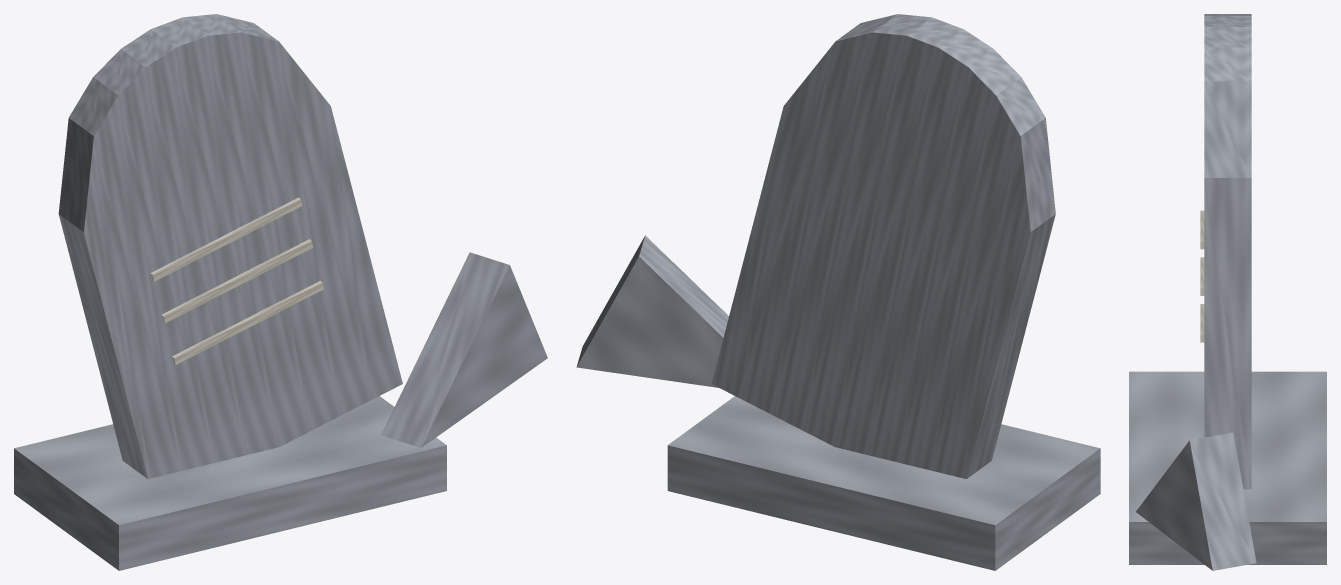
3 views of the same model, side by side, from view 1: azimuth 30°, elevation 25°; view 2: azimuth 150°, elevation 25°; view 3: azimuth 270°, elevation 25° (orthographic). The views are drawn at different scales.
Visible parts, largest first — view 1: headstone-broken; view 2: headstone-broken; view 3: headstone-broken.
Boxes of the visible parts, <box> form: headstone-broken: <box>14,14,547,570</box>; headstone-broken: <box>576,14,1100,570</box>; headstone-broken: <box>1129,14,1326,570</box>.
Size of the model in its own units: 1.3 by 1.25 by 0.5.
Materials: 2 (2 with a texture image).
